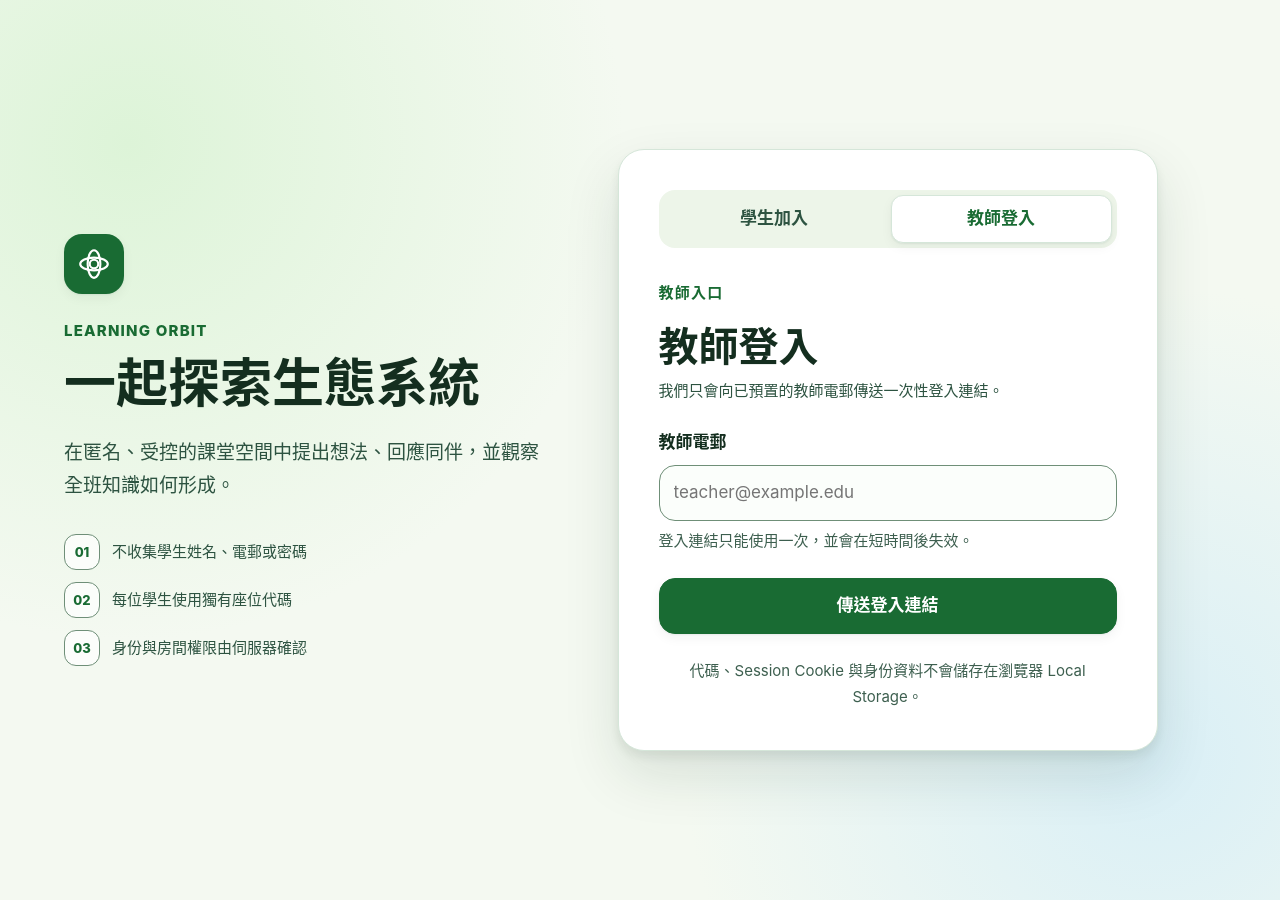
Test: unified login page › uses identical teacher success copy and never displays a link
Check: the heading "教師登入" is shown, box [659,322,819,371]
In the field labelled "教師電郵": [888, 493] box [659,465,1117,521], type "Teacher@Example.EDU"
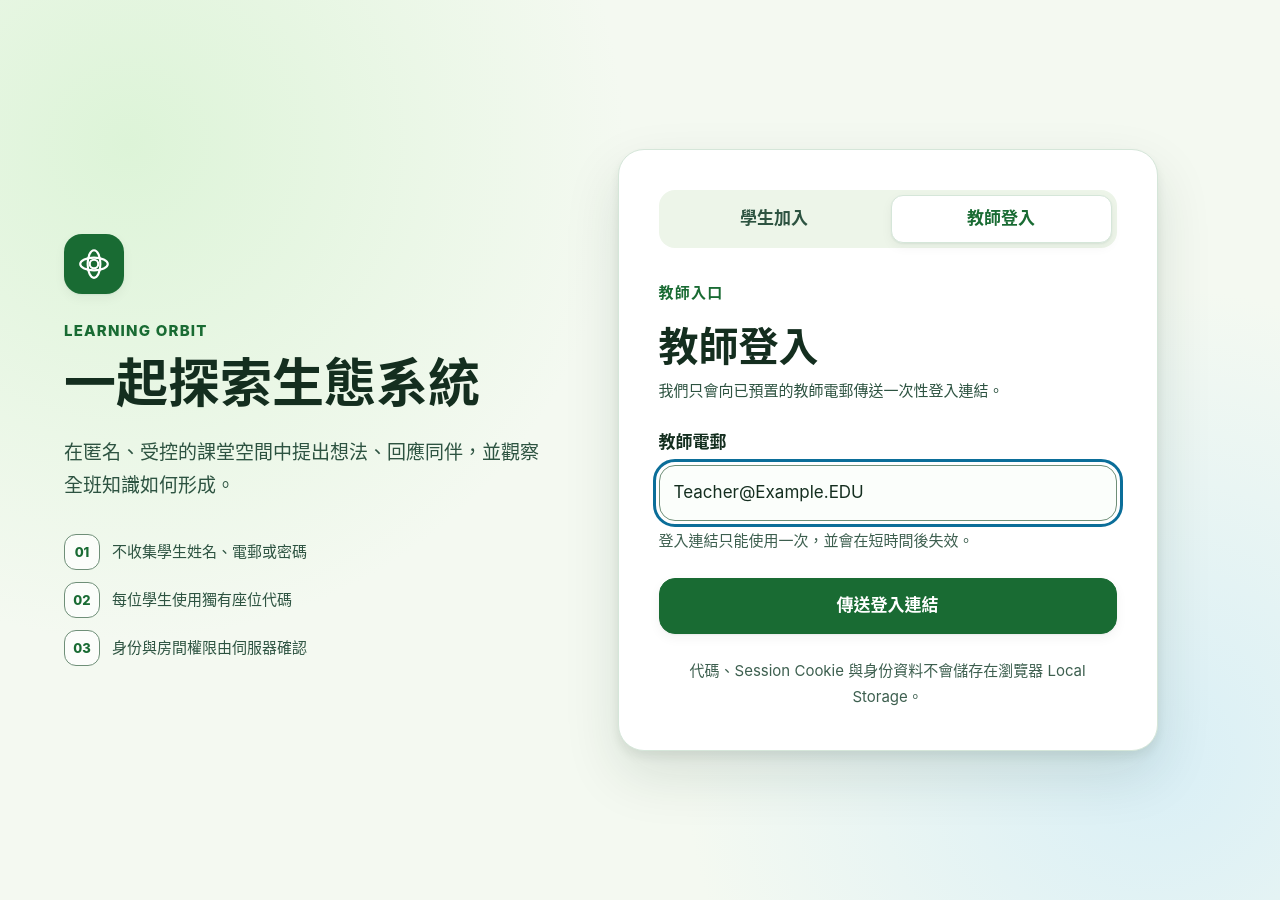
Click the button "傳送登入連結": [888, 606] box [659,578,1117,634]
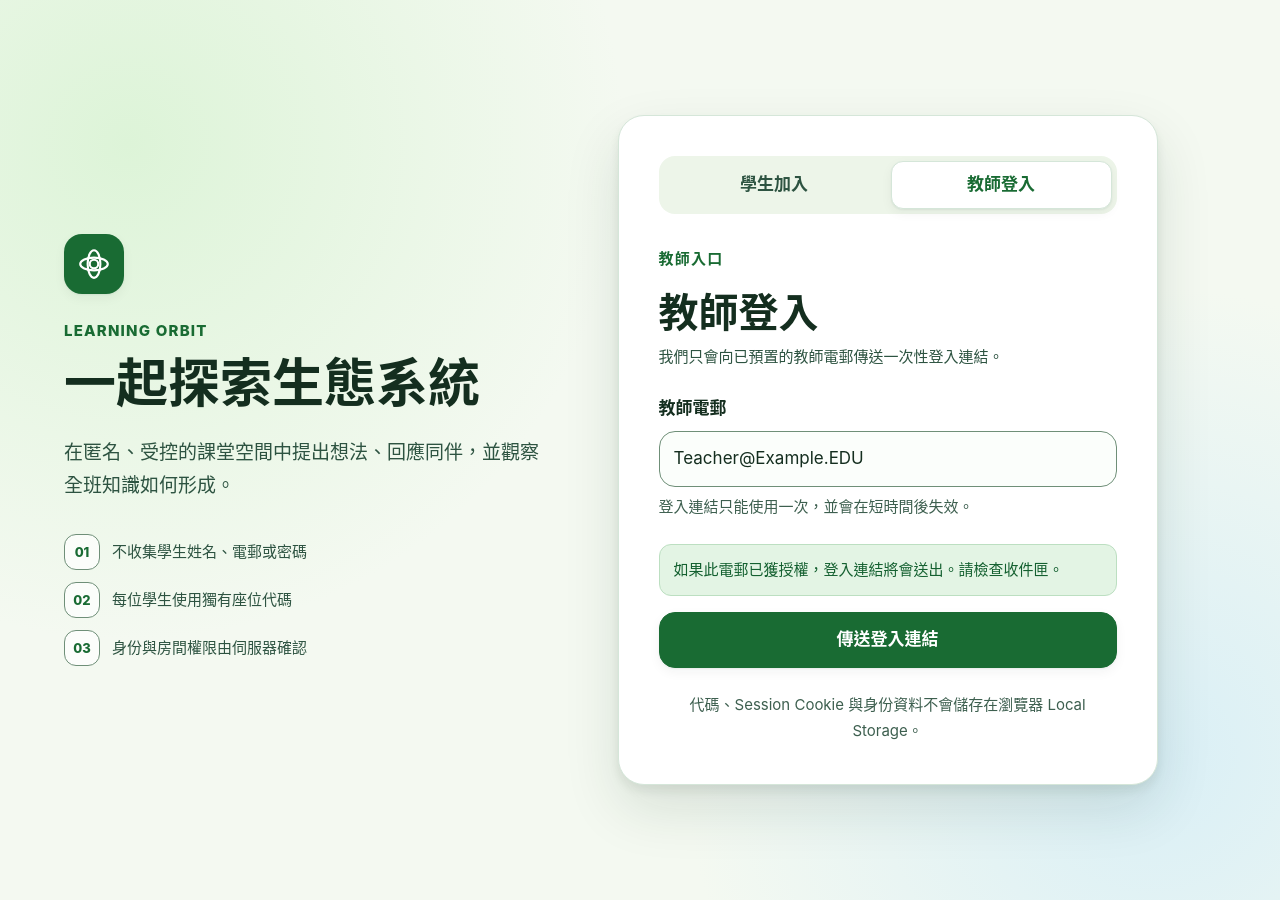
Check: the message reads "如果此電郵已獲授權，登入連結將會送出。請檢查收件匣。", box [674,560,1064,579]
